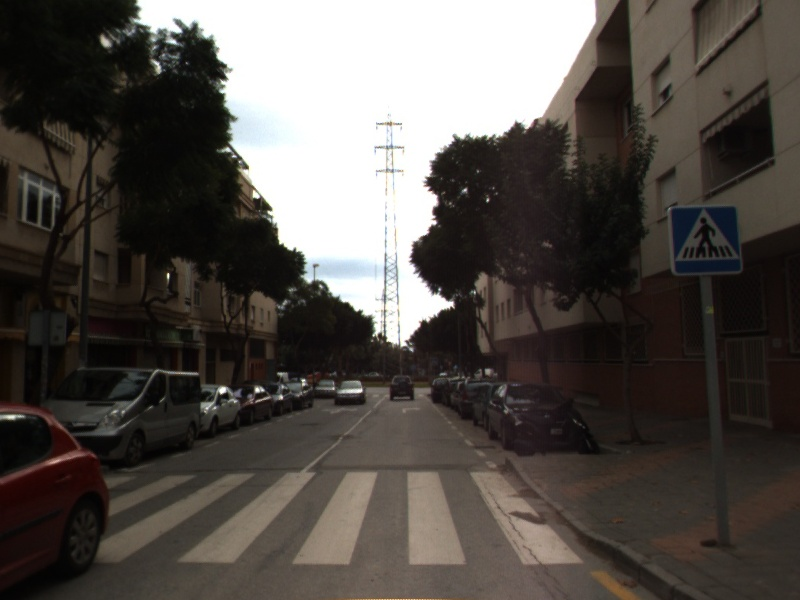RIGHT: (400, 404, 423, 416)
